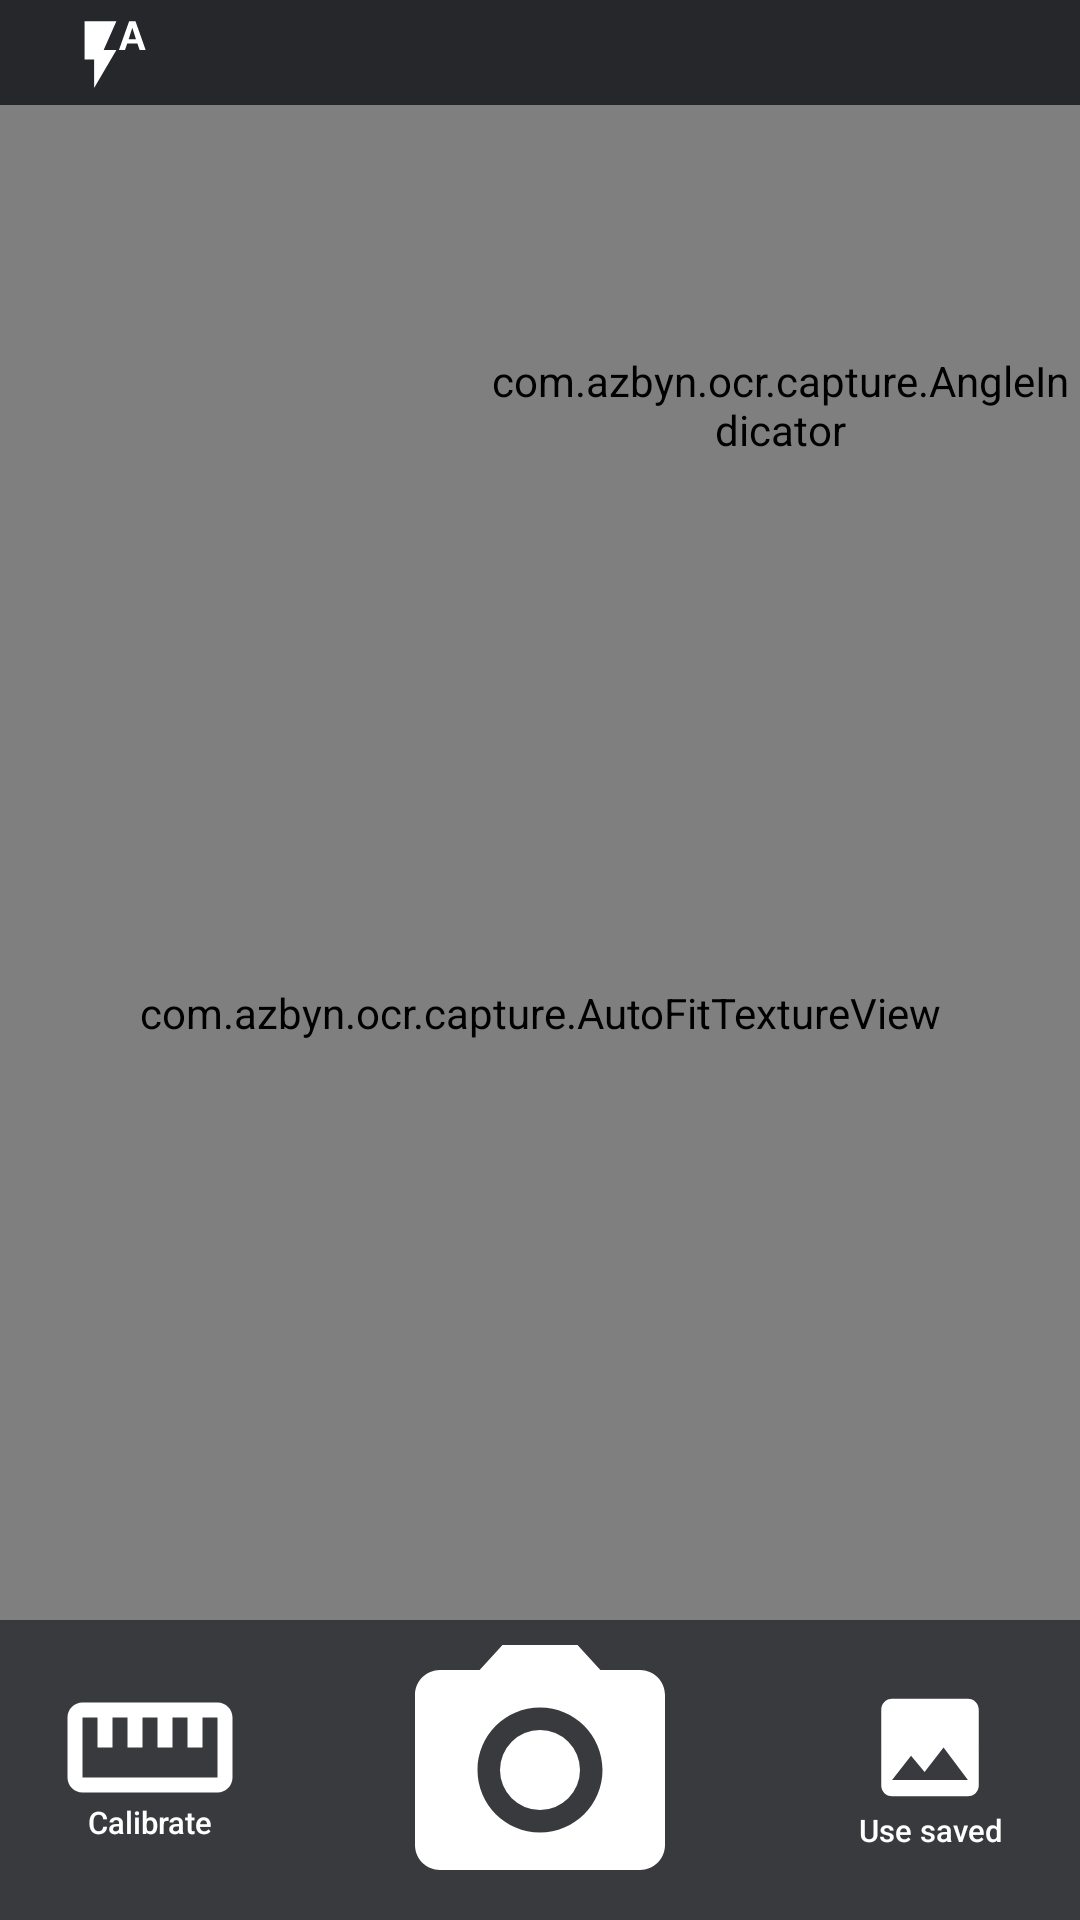

Point at icon controls on the screen. Image size 1080×1920, points as (x=x, y=y).
flash auto: (x=115, y=54)
take photo: (x=540, y=1757)
